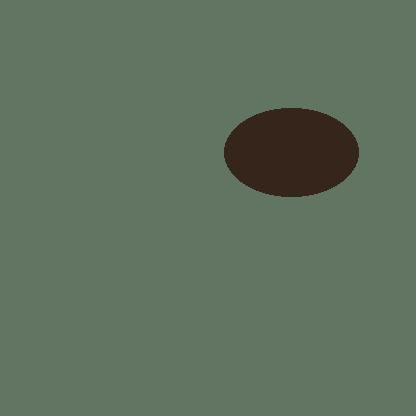pothole: (224, 108, 358, 196)
